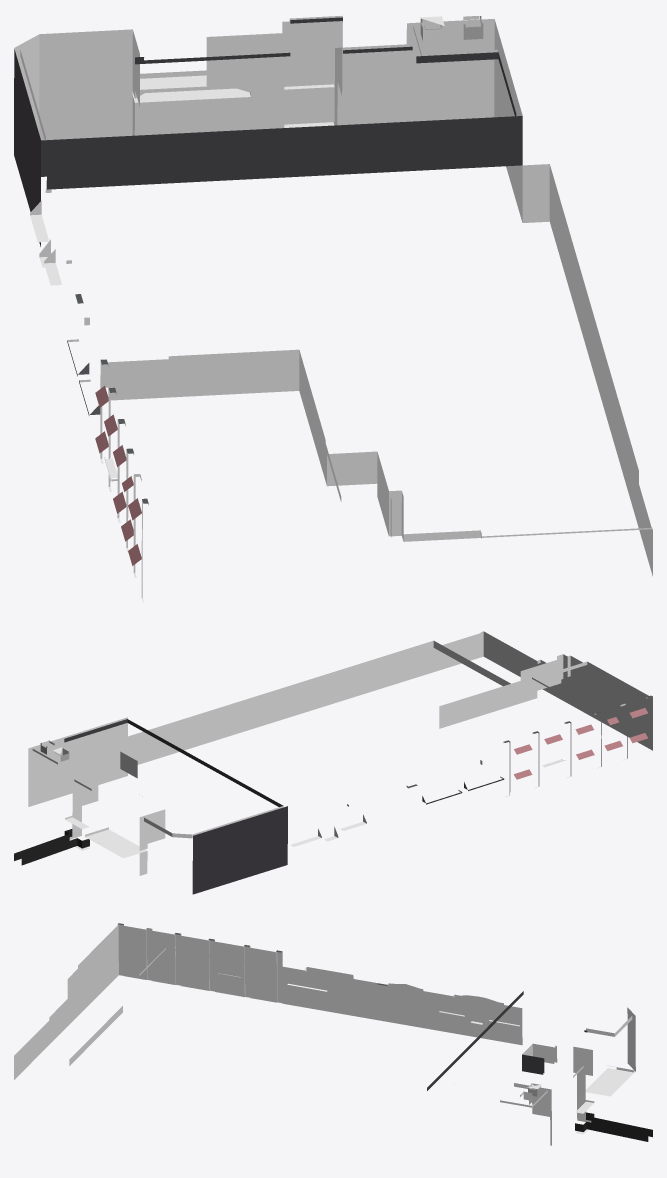
File: artech-design-group-cowart-14th-st.glb
3 views of the same model, one above another, from view 1: azimuth 30°, elevation 25°; view 2: azimuth 150°, elevation 25°; view 3: azimuth 270°, elevation 25° (orthographic). The views are drawn at different scales.
Parts seen in each view (by area): view 1: LOD0; view 2: LOD0; view 3: LOD0.
Part boxes in pixels (box(x1,y1,x2,y2)): LOD0: box(14, 16, 652, 602); LOD0: box(14, 631, 652, 894); LOD0: box(14, 923, 652, 1145).
Size of what is drawn, in the model's own units: 67.38 by 12.13 by 95.09.
3 materials, 3 textured.
